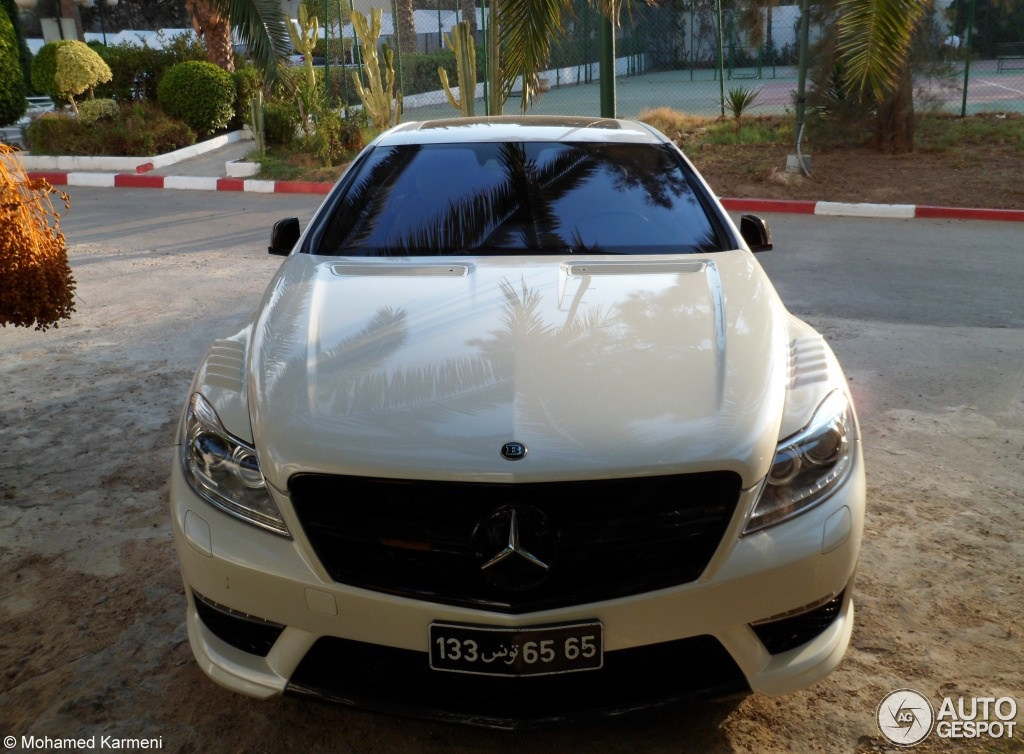LP: (428, 622, 612, 676)
